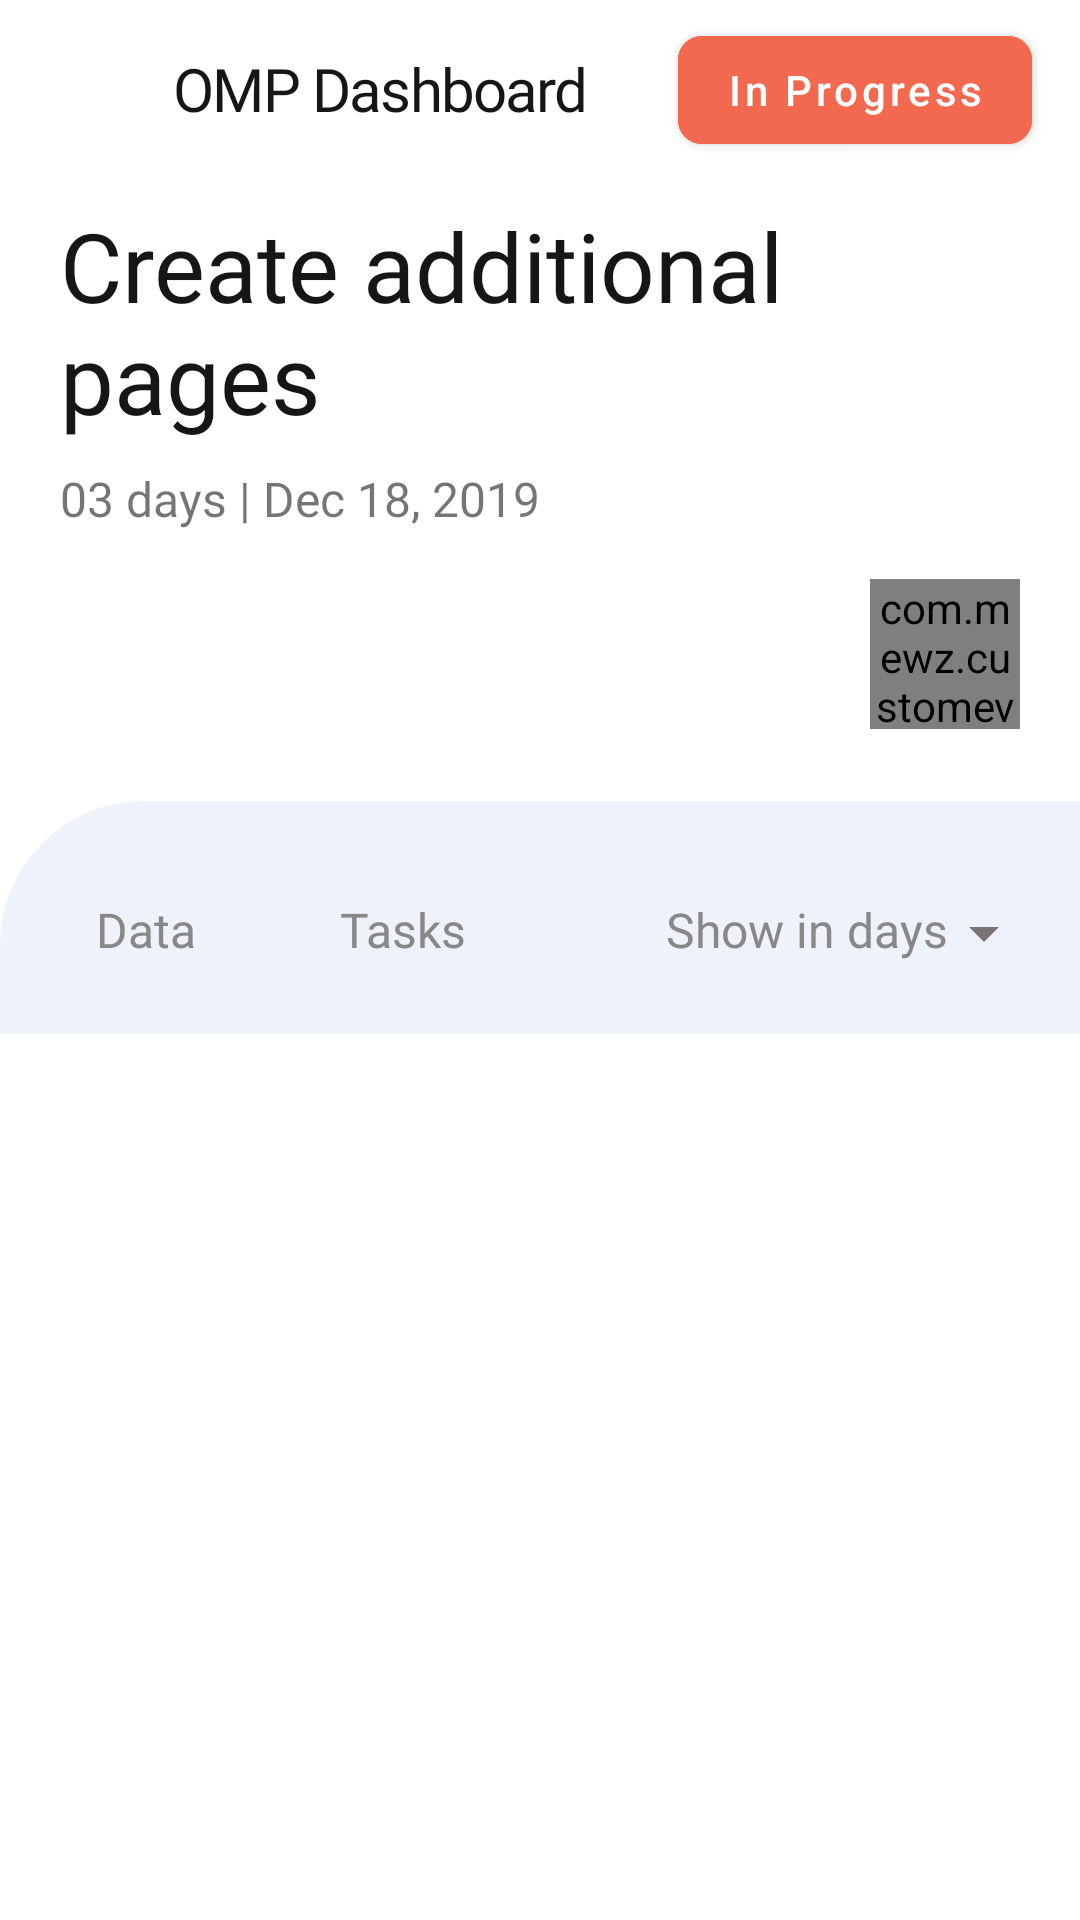

Screen size 1080px×1920px. Icon name, then its center in pixels as [x,y]:
arrow drop down: [984,934]
